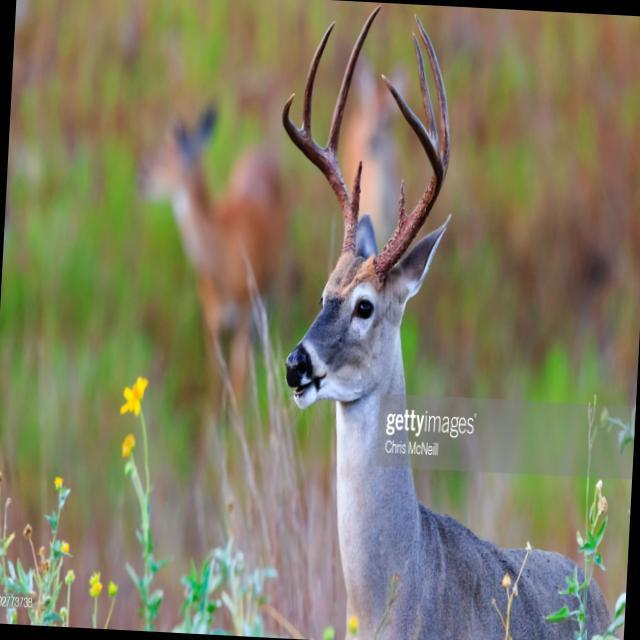L-F: (374, 73, 445, 284)
L-G1: (397, 178, 408, 228)
L-G2: (414, 14, 450, 176)
R-F: (282, 93, 358, 258)
R-G1: (351, 160, 362, 222)
R-G2: (325, 4, 382, 161)
R-G3: (301, 20, 335, 136)
